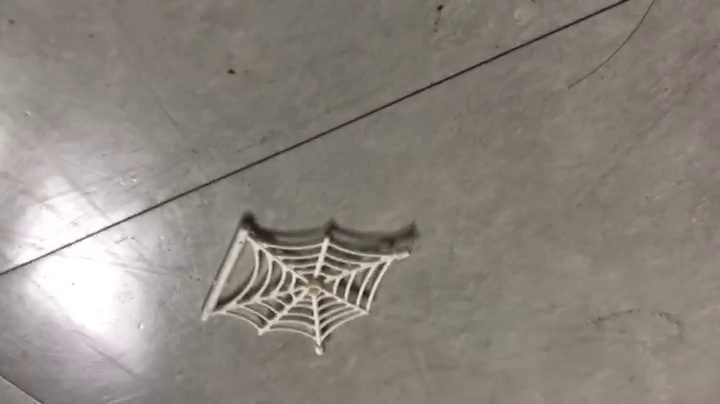web: (198, 212, 422, 356)
